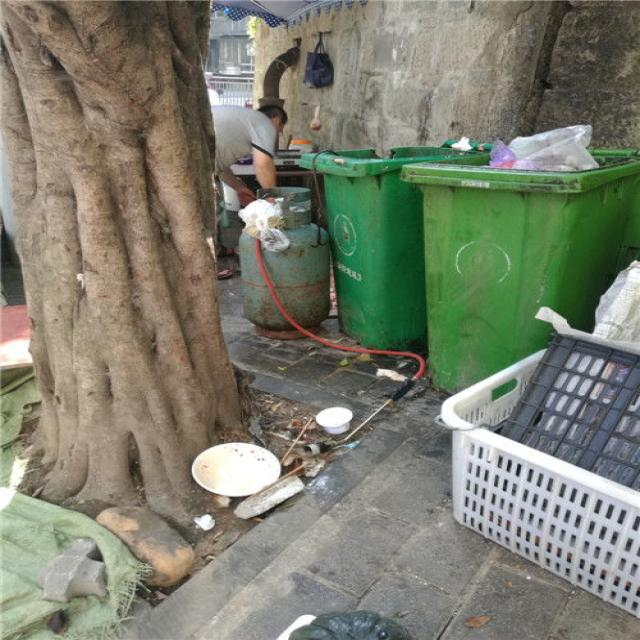garbage: (186, 406, 352, 532)
garbage_bin: (298, 137, 488, 348)
overflow: (398, 124, 639, 398)
